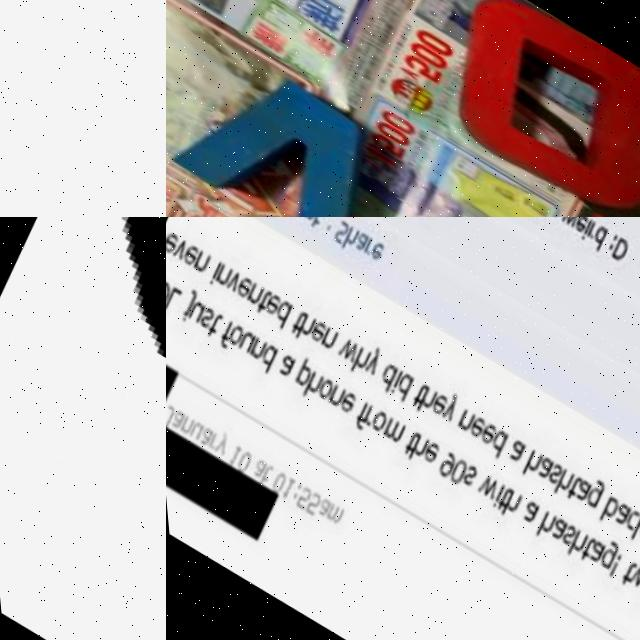1: (292, 484, 316, 514), (283, 480, 305, 507)
5: (425, 442, 450, 473)
7: (0, 0, 166, 217)
D: (0, 217, 166, 640)
O: (409, 0, 640, 217)
V: (166, 31, 408, 217)
